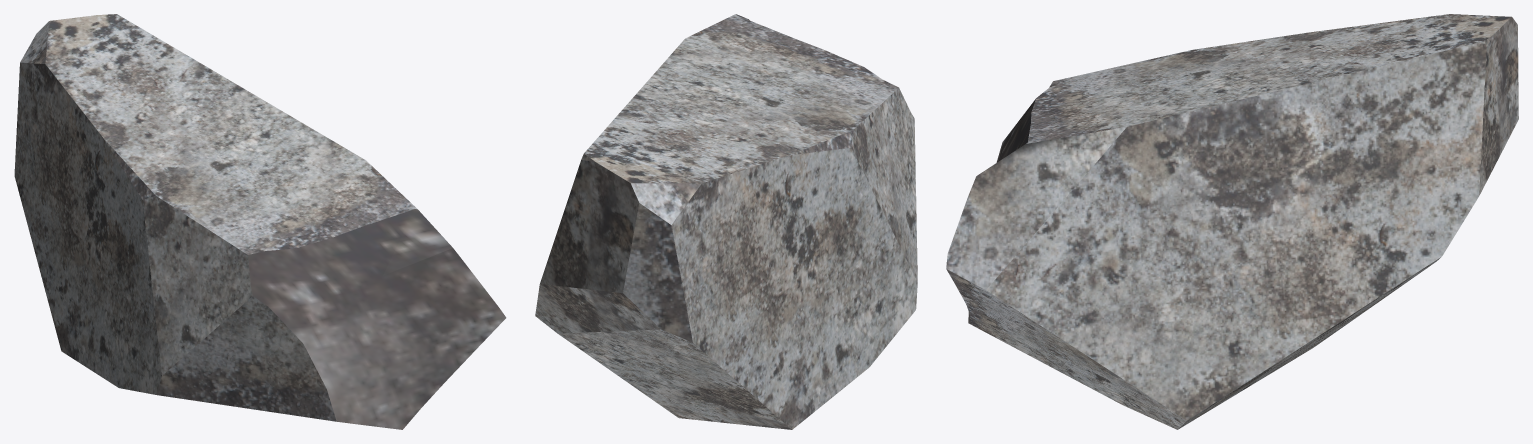
File: Asteroid_Large_001_02_009_03_051.fbx
3 views of the same model, side by side, from view 1: azimuth 30°, elevation 25°; view 2: azimuth 150°, elevation 25°; view 3: azimuth 270°, elevation 25° (orthographic). The views are drawn at different scales.
Visible parts, largest first — view 1: Asteroid_Large_001_02_009_03_051; view 2: Asteroid_Large_001_02_009_03_051; view 3: Asteroid_Large_001_02_009_03_051.
Part boxes in pixels (x1,y1,x2,y2): Asteroid_Large_001_02_009_03_051: [14, 14, 506, 429]; Asteroid_Large_001_02_009_03_051: [535, 14, 917, 429]; Asteroid_Large_001_02_009_03_051: [946, 14, 1518, 429].
Size of the model in its own units: 10.85 by 11.91 by 18.64.
